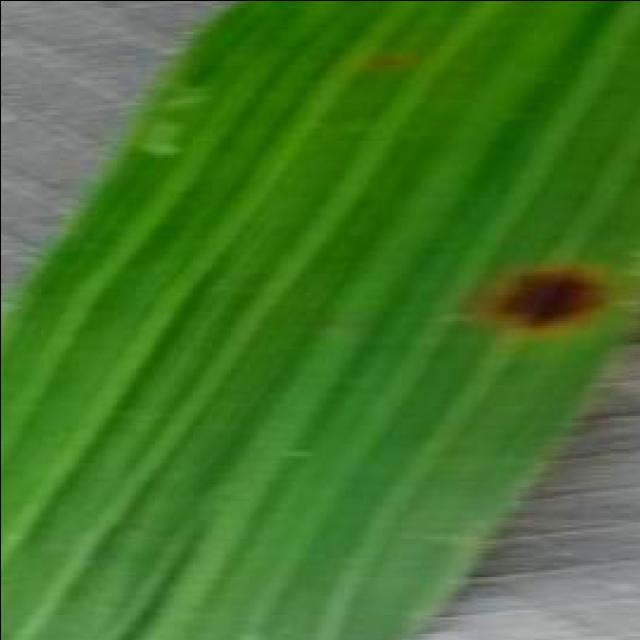Brown_Spot: (462, 232, 640, 374)
